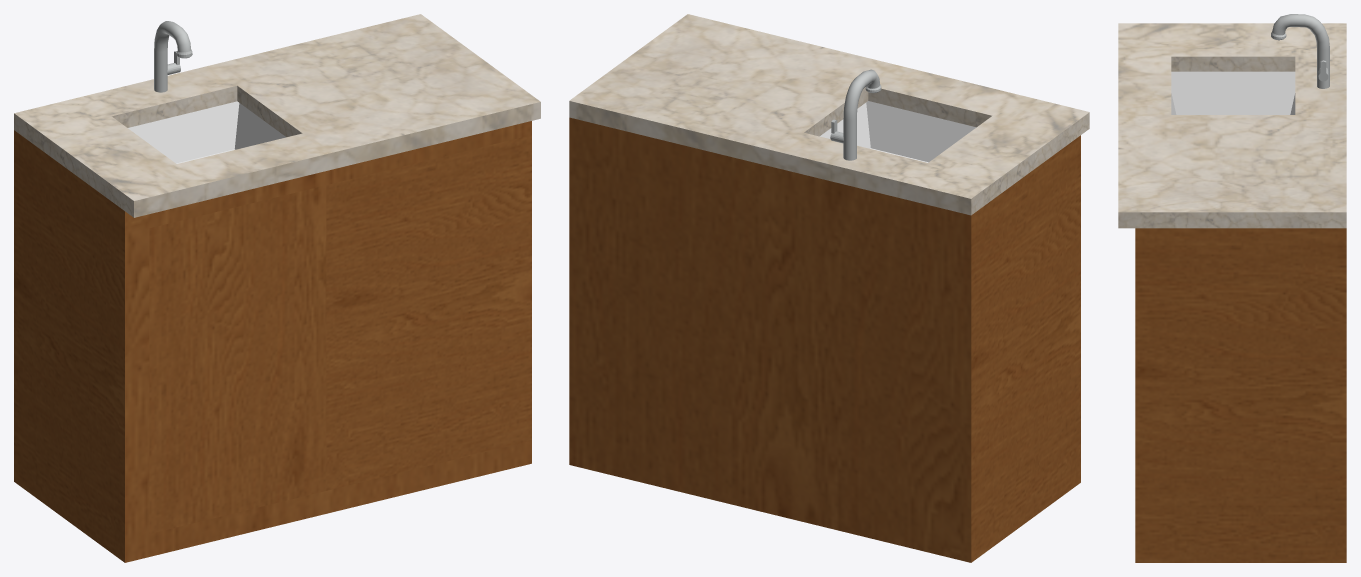
File: Cabinet_Basin.fbx
3 renders of one model, left to right at view 1: azimuth 30°, elevation 25°; view 2: azimuth 150°, elevation 25°; view 3: azimuth 270°, elevation 25°, orthographic. The views are drawn at different scales.
Visible parts, largest first — view 1: pCube32, Cover_Middle8, pCylinder12; view 2: pCube32, Cover_Middle8, pCylinder12; view 3: pCube32, Cover_Middle8, pCylinder12.
Part boxes in pixels (box(x1,y1,x2,y2)): pCube32: box(14, 101, 531, 562); Cover_Middle8: box(14, 14, 540, 217); pCylinder12: box(154, 21, 192, 92); pCube32: box(569, 101, 1080, 562); Cover_Middle8: box(569, 14, 1089, 215); pCylinder12: box(843, 69, 881, 160); pCube32: box(1135, 71, 1346, 562); Cover_Middle8: box(1118, 23, 1346, 228); pCylinder12: box(1271, 14, 1329, 88).
Bounding box in the file's own units: 1.16 × 1.21 × 0.5919.
